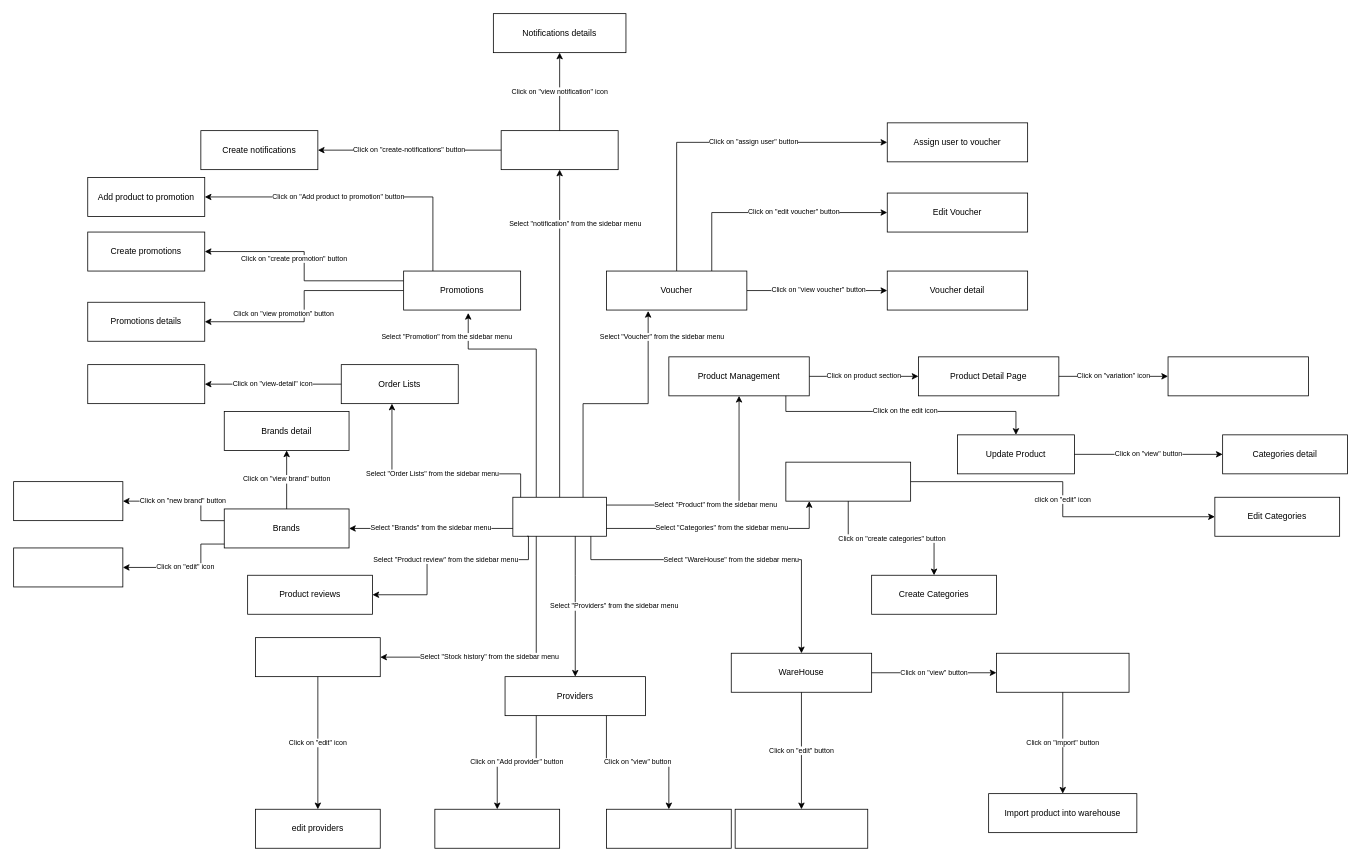
Some shapes in this 1361 by 862 pixel diagram are drawn without their labels. Each missing label, with the centre of its shape:
Categories: point 848,481
Create Provider: point 497,828
Dashboard: point 559,516
edit Brands: point 68,567
Edit Product Variation: point 1237,376
Edit WareHouse detail: point 801,828
New Brand: point 68,501
Notifications: point 559,150
Order detail: point 146,384
Providers detail: point 668,828
Stock history: point 317,657
WareHouse detail: point 1062,672
